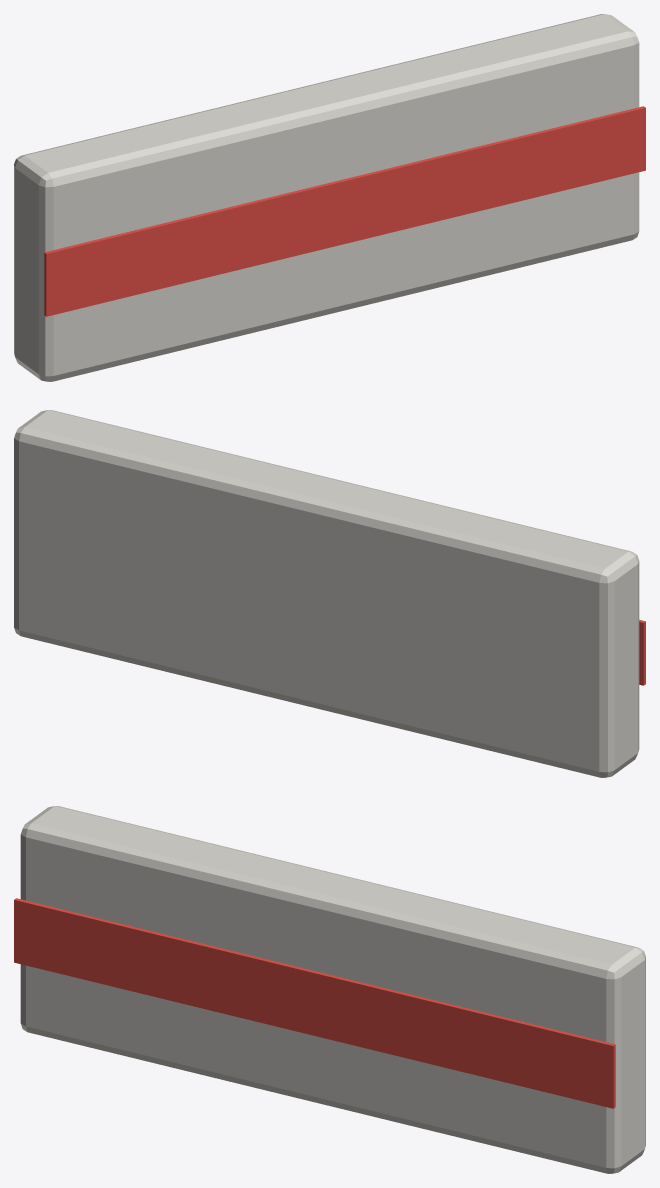
The model's file is Motor_Barrier.fbx.
3 views of the same model, one above another, from view 1: azimuth 30°, elevation 25°; view 2: azimuth 150°, elevation 25°; view 3: azimuth 330°, elevation 25° (orthographic).
Visible parts, largest first — view 1: Barrier; view 2: Barrier; view 3: Barrier.
Part boxes in pixels (x1,y1,x2,y2): Barrier: (14, 14, 645, 381); Barrier: (14, 410, 645, 777); Barrier: (14, 806, 645, 1173).
Bounding box in the file's own units: 3 × 1 × 0.32.
